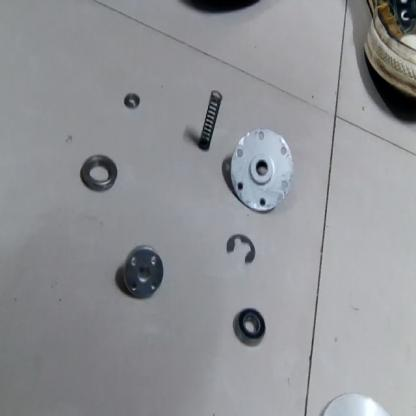FOD: (229, 128, 300, 214), (121, 244, 167, 299), (79, 153, 122, 195), (197, 88, 224, 151), (231, 306, 270, 346), (223, 227, 259, 270), (122, 90, 143, 112)
